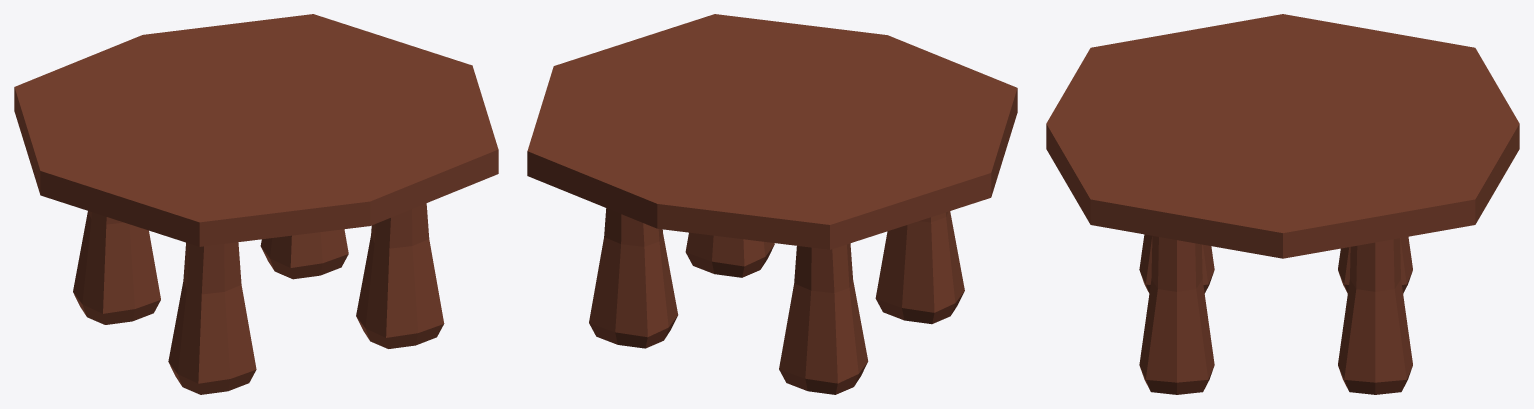
Rendered from WallyStool.fbx.
3 views of the same model, side by side, from view 1: azimuth 30°, elevation 25°; view 2: azimuth 150°, elevation 25°; view 3: azimuth 270°, elevation 25° (orthographic). The views are drawn at different scales.
Parts seen in each view (by area): view 1: Cube.005; view 2: Cube.005; view 3: Cube.005.
Part boxes in pixels (box(x1,y1,x2,y2)): Cube.005: box(14, 14, 498, 394); Cube.005: box(527, 14, 1017, 394); Cube.005: box(1046, 14, 1519, 394).
Bounding box in the file's own units: 217 × 96.37 × 198.
